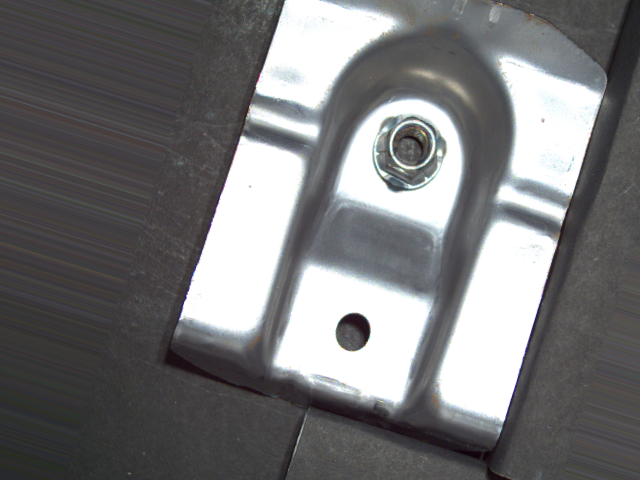good: (371, 112, 451, 194)
